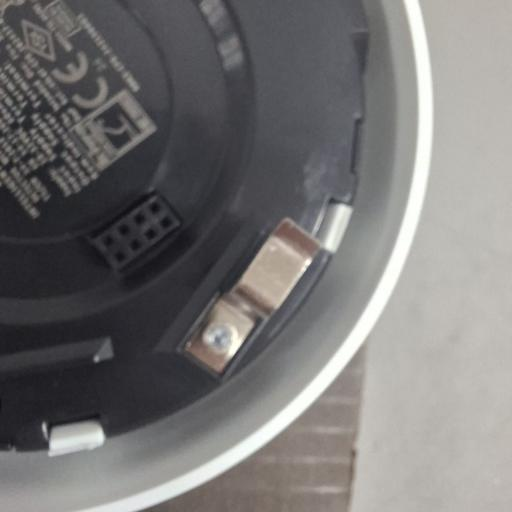yaysiz: (186, 210, 328, 372)
